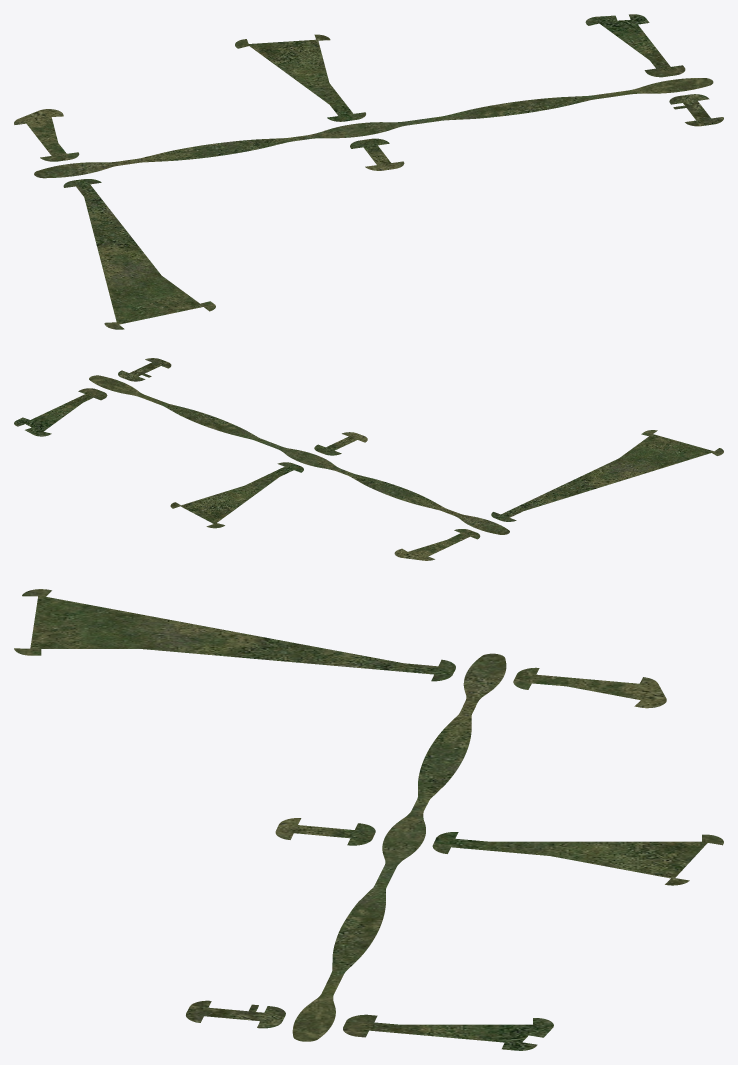
File: grass_inside.obj
3 renders of one model, top to bottom at view 1: azimuth 30°, elevation 25°; view 2: azimuth 150°, elevation 25°; view 3: azimuth 270°, elevation 25°, orthographic. The views are drawn at different scales.
Parts seen in each view (by area): view 1: Grass_inside; view 2: Grass_inside; view 3: Grass_inside.
Boxes of the visible parts, box(x1,y1,x2,y2) form: Grass_inside: box(14, 14, 723, 329); Grass_inside: box(14, 358, 723, 560); Grass_inside: box(14, 589, 723, 1050).
Bounding box in the file's own units: 33626 × 0 × 21849.
